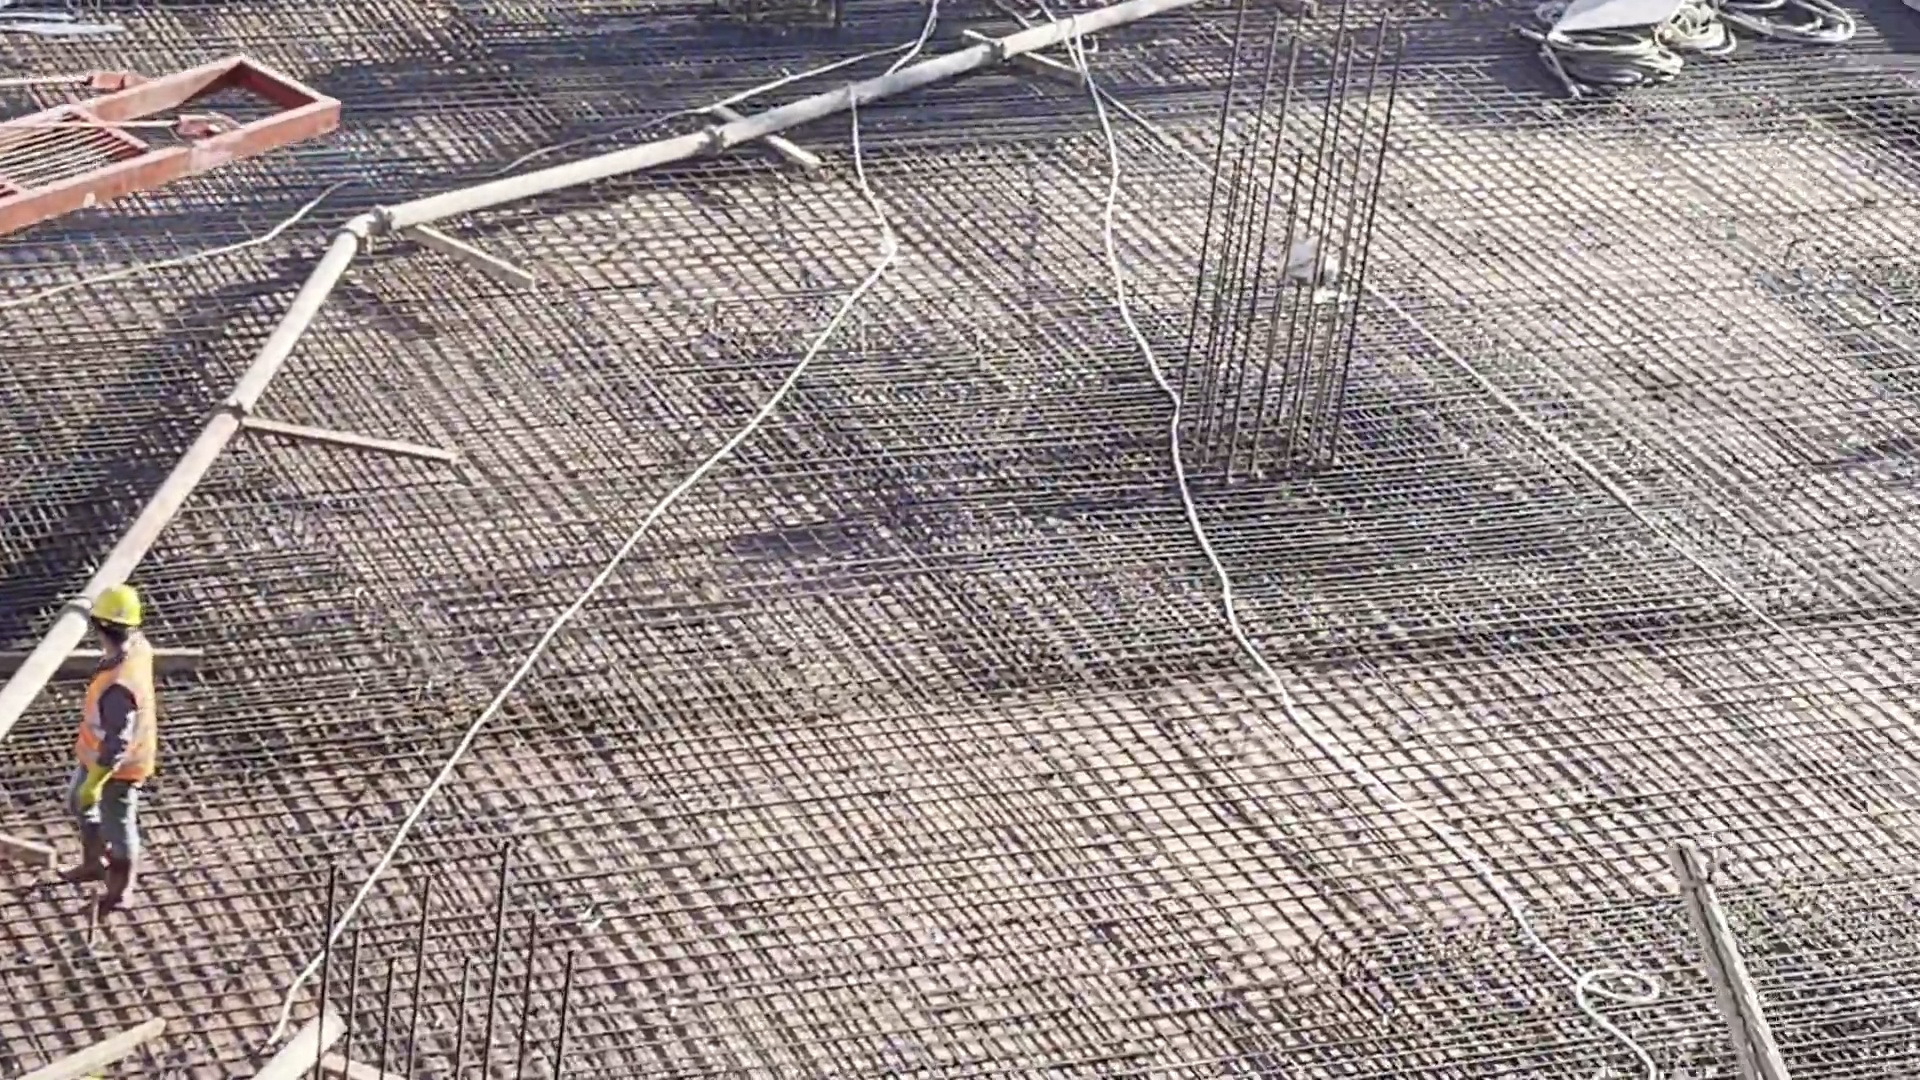helmet: (89, 592, 140, 633)
person: (55, 586, 162, 906)
vest: (73, 649, 155, 792)
